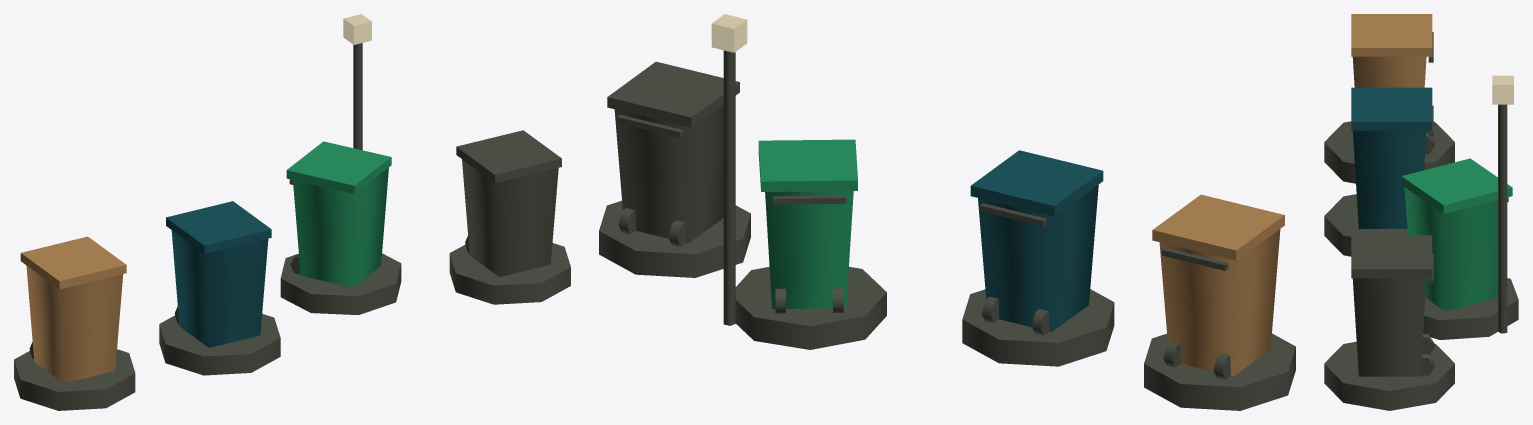
Rendered from sorting-buoys.glb.
3 views of the same model, side by side, from view 1: azimuth 30°, elevation 25°; view 2: azimuth 150°, elevation 25°; view 3: azimuth 270°, elevation 25° (orthographic). The views are drawn at different scales.
Visible parts, largest first — view 1: toy_peek, toy_hop_bio, toy_hop_papier, toy_hop_rest, Float_rest, Float_papier, Float_bio, Float_glas, SortingBuoys; view 2: toy_hop_papier, toy_hop_bio, toy_hop_rest, toy_peek, Float_glas, Float_papier, Float_bio, Float_rest, SortingBuoys; view 3: toy_peek, toy_hop_rest, toy_hop_papier, toy_hop_bio, Float_rest, Float_glas, SortingBuoys, Float_bio, Float_papier.
Part boxes in pixels (<box>): toy_peek: <box>286,141,391,287</box>; toy_hop_bio: <box>20,236,126,383</box>; toy_hop_papier: <box>166,201,271,347</box>; toy_hop_rest: <box>456,130,561,276</box>; Float_rest: <box>449,243,570,304</box>; Float_papier: <box>159,314,280,375</box>; Float_bio: <box>14,349,135,410</box>; Float_glas: <box>280,253,401,315</box>; SortingBuoys: <box>343,14,371,150</box>; toy_hop_papier: <box>970,150,1103,335</box>; toy_hop_bio: <box>1152,194,1284,379</box>; toy_hop_rest: <box>607,61,739,246</box>; toy_peek: <box>758,139,857,313</box>; Float_glas: <box>735,266,886,349</box>; Float_papier: <box>962,289,1114,366</box>; Float_bio: <box>1144,333,1295,410</box>; Float_rest: <box>599,200,750,277</box>; SortingBuoys: <box>711,14,747,325</box>; toy_peek: <box>1401,158,1512,311</box>; toy_hop_rest: <box>1351,235,1434,376</box>; toy_hop_papier: <box>1351,87,1433,228</box>; toy_hop_bio: <box>1351,14,1434,154</box>; Float_rest: <box>1324,341,1454,410</box>; Float_glas: <box>1423,278,1518,339</box>; SortingBuoys: <box>1492,75,1513,333</box>; Float_bio: <box>1324,121,1454,183</box>; Float_papier: <box>1324,194,1408,256</box>.
Size of the model in its own units: 15 by 6.4 by 4.46.
